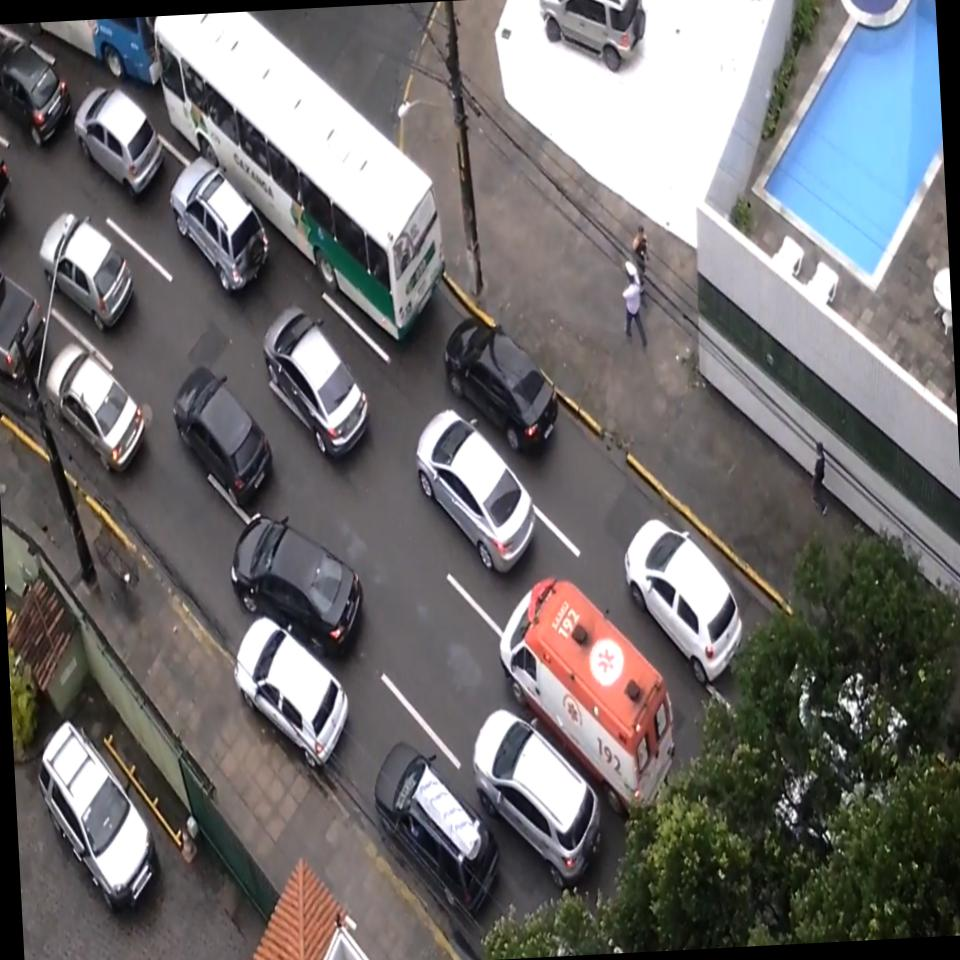bombeiro: (496, 568, 680, 828)
